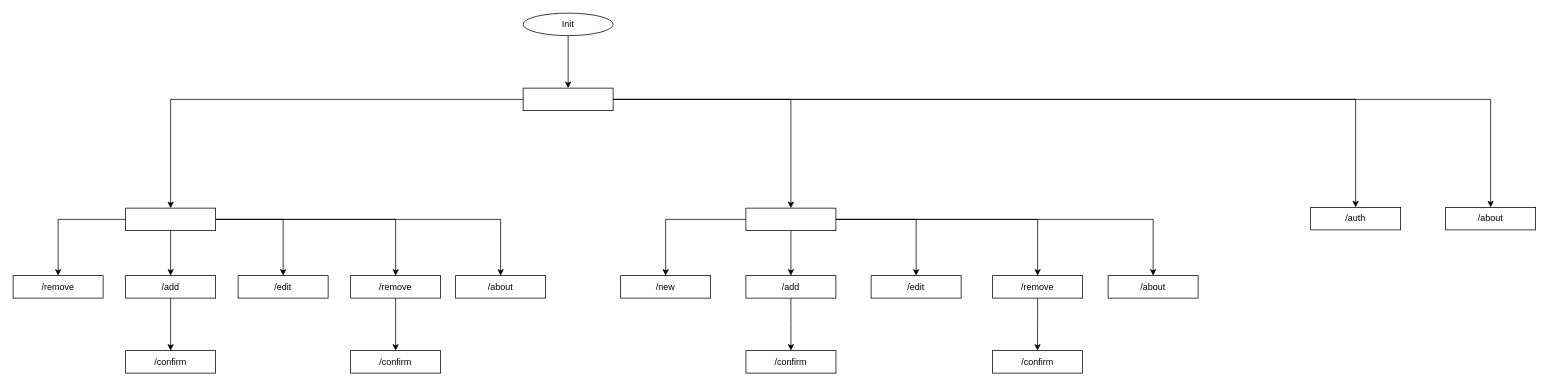
Some shapes in this 1549 by 386 pixel diagram are drawn without their labels. The shapes that lost their labels are listed below. From the top down, each one's centre as x and y in pixels, then its label:
the point at 567,99: App Router BrowserRouter
the point at 170,219: /events
the point at 790,219: /subscriptions
